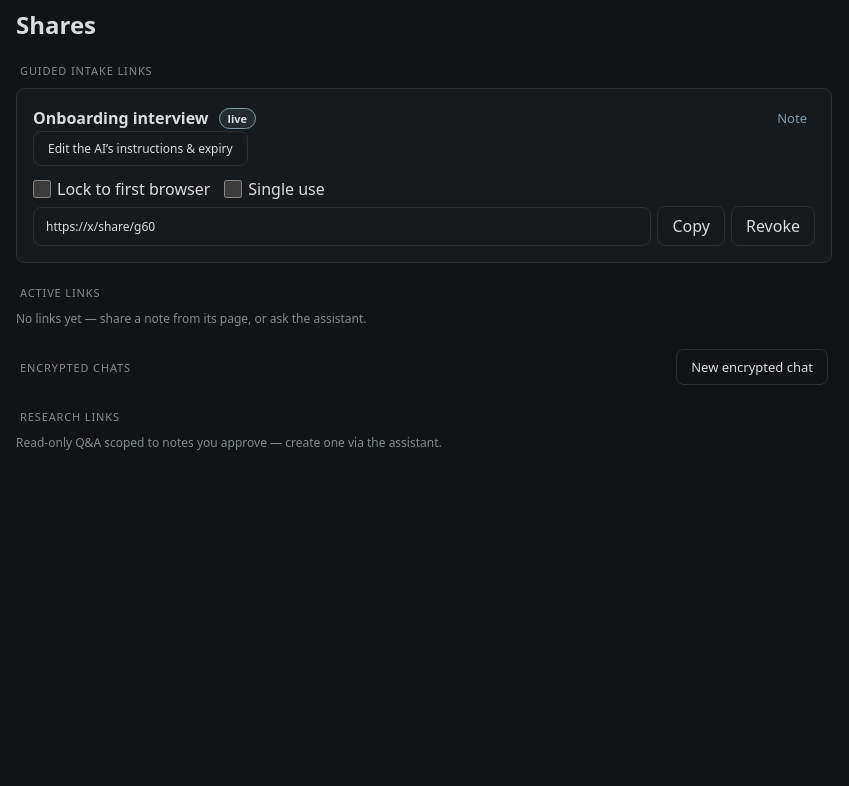
Test: SharesPage — guided link editor + options › disables Save in the editor when the interview brief is empty
This screenshot has width=849, height=786.
Expected: the text "Onboarding interview" is shown, [33,107,209,129]
Click the button "Edit the AI’s instructions & expiry": (140, 148) [33,131,248,166]
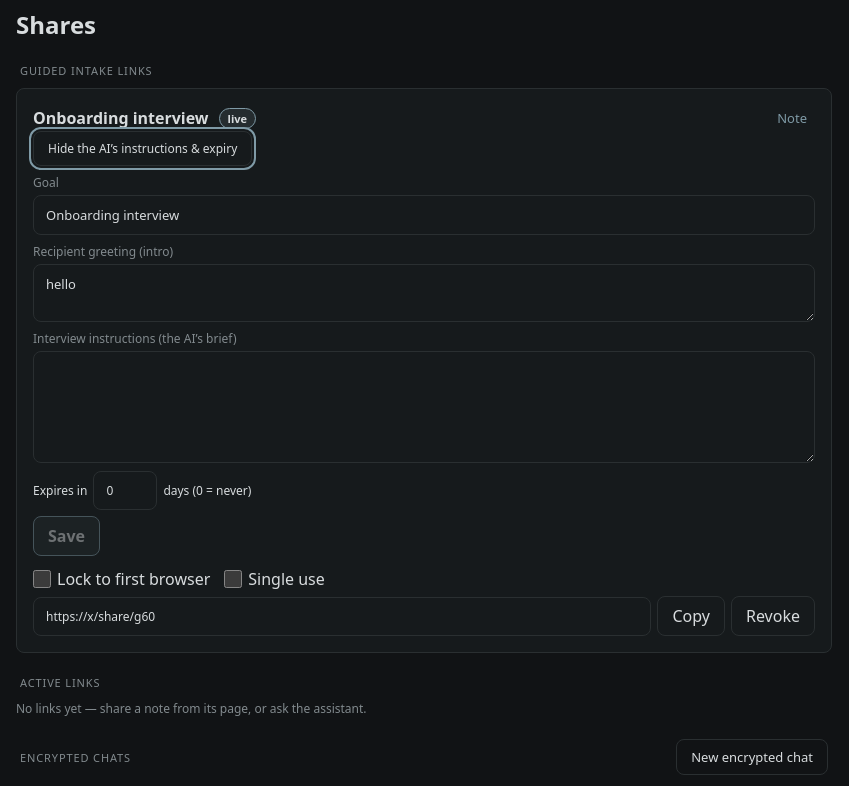
Now the text box labelled "Interview instructions (the AI’s brief)" is shown, box [33,351,815,463]
Now the button "Save" is disabled, box [33,516,100,556]
